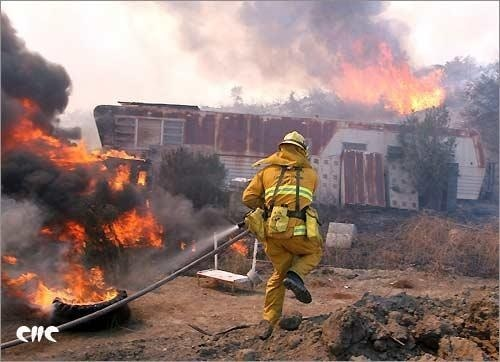fire: (5, 103, 165, 309), (335, 43, 448, 114), (229, 237, 250, 254)
